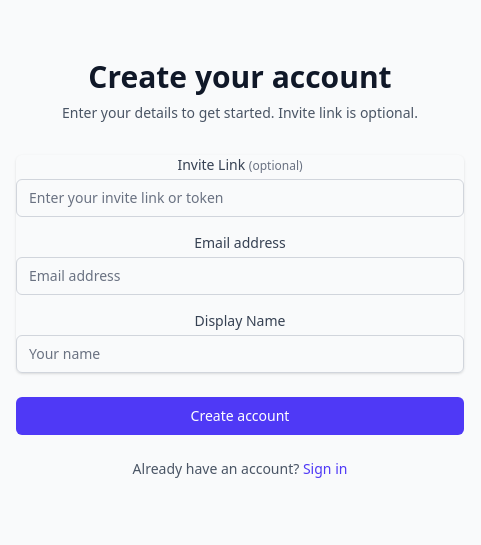
Test case: RegisterPage › shows error for invalid invite token
Type "invalid-token" into the field with placeholder "Enter your invite link or token" at (240,198), box [16,179,464,217]
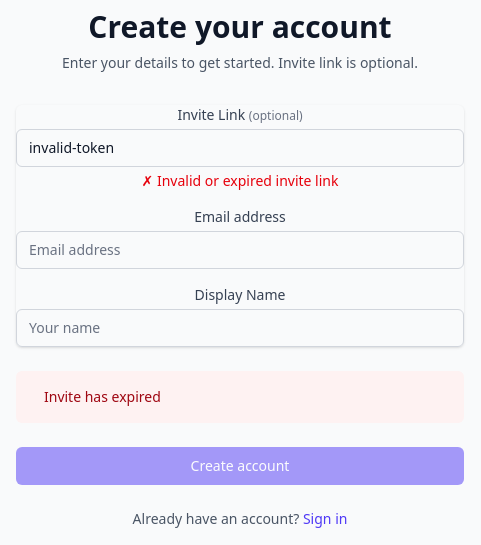
expect the text "✗ Invalid or expired invite link" is shown: met, box [142,171,338,190]
expect the heading "Invite has expired" is shown: met, box [44,387,161,407]
